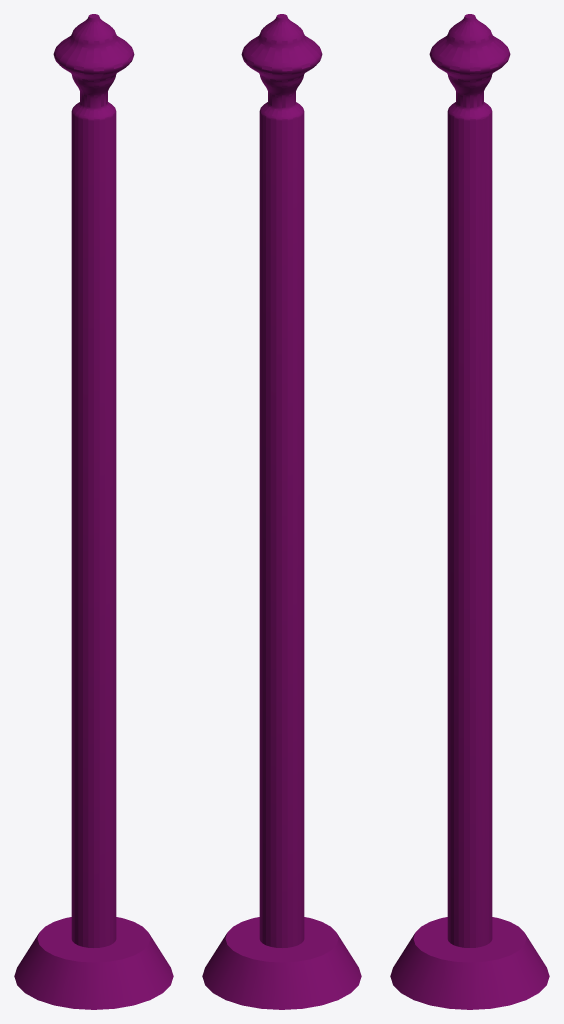
File: FlagPole.FBX
3 views of the same model, side by side, from view 1: azimuth 30°, elevation 25°; view 2: azimuth 150°, elevation 25°; view 3: azimuth 270°, elevation 25° (orthographic).
Visible parts, largest first — view 1: Cone001; view 2: Cone001; view 3: Cone001.
Part boxes in pixels (x1,y1,x2,y2): Cone001: (14, 14, 173, 1009); Cone001: (202, 14, 361, 1009); Cone001: (390, 14, 549, 1009).
Size of the model in its own units: 12.88 by 12.88 by 85.66.
